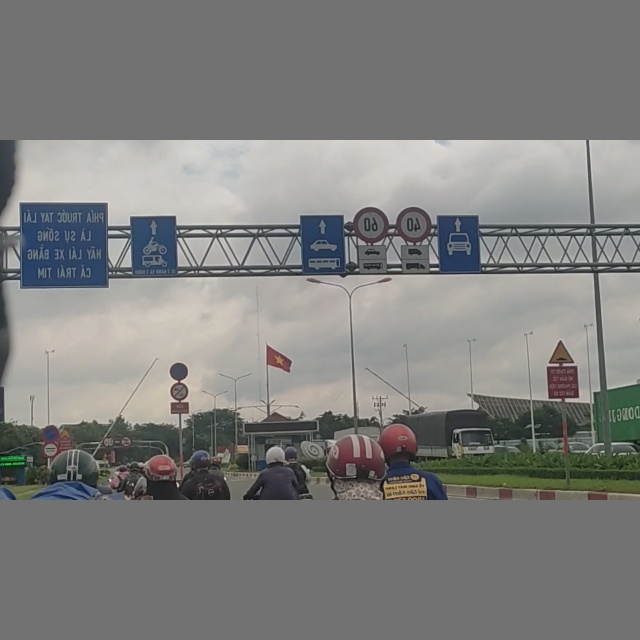P.107: (102, 437, 115, 448), (121, 435, 131, 446)
P.111: (170, 383, 187, 401)
P.127*40: (396, 207, 431, 243)
P.127*60: (353, 207, 389, 243)
P.129: (42, 442, 58, 458)
P.130: (169, 363, 189, 381)
P.131a: (43, 426, 58, 441)
W.221b: (547, 340, 574, 364), (59, 427, 71, 439)
